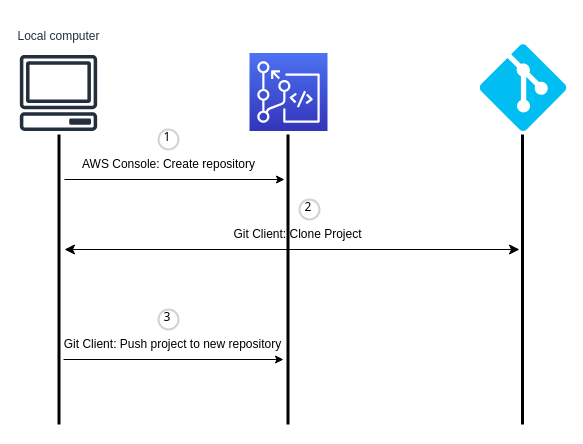
Some shapes in this 583 by 444 pixel diagram are drawn without their labels. The centre of each missing label's shape, as x and y in pixels:
"AWS CodeCommit" belongs at point 288,91.
"Git Server" belongs at point 522,87.
